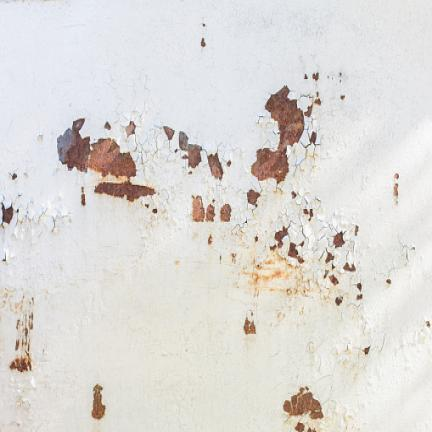karat: (65, 119, 154, 201)
